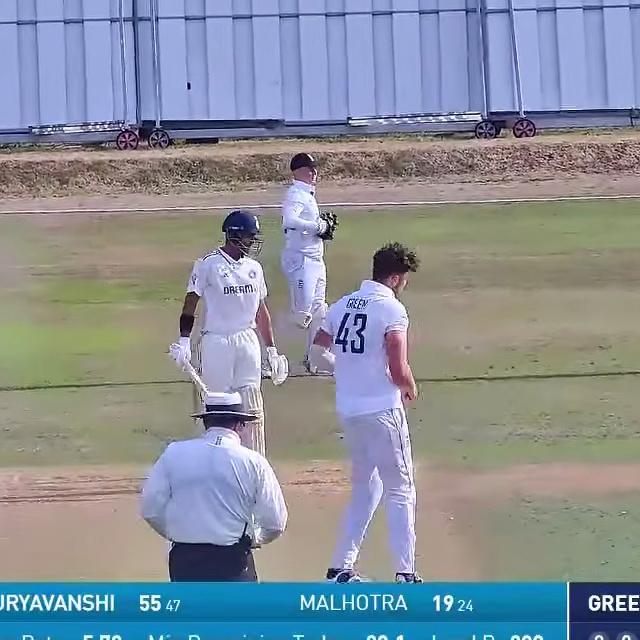umpire: (127, 408, 299, 640)
